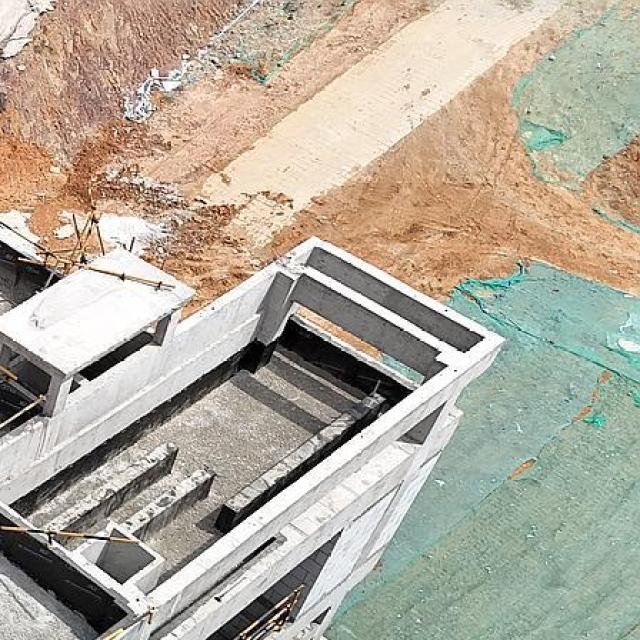edge_guardrail: (234, 583, 304, 640), (0, 364, 49, 431), (0, 525, 140, 546), (1, 221, 64, 266), (99, 605, 153, 640)
